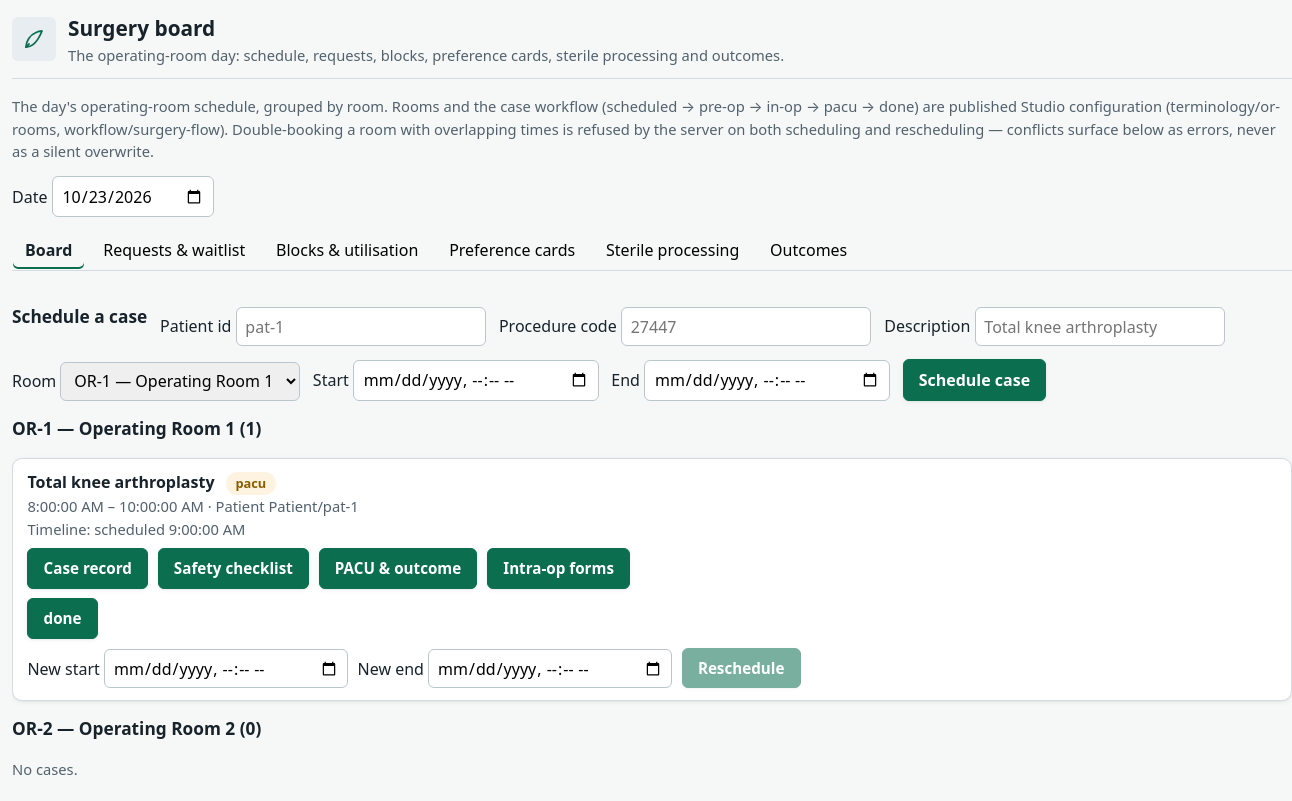
Scenario: SurgeryBoardPage — Phase 15 depth › surfaces the PACU gate 409 detail when the pacu → done transition is refused
The image size is (1292, 801).
Expected: the text "Total knee arthroplasty" is shown, [27, 471, 214, 493]
Click the button "done" at (63, 618), box [27, 598, 98, 639]
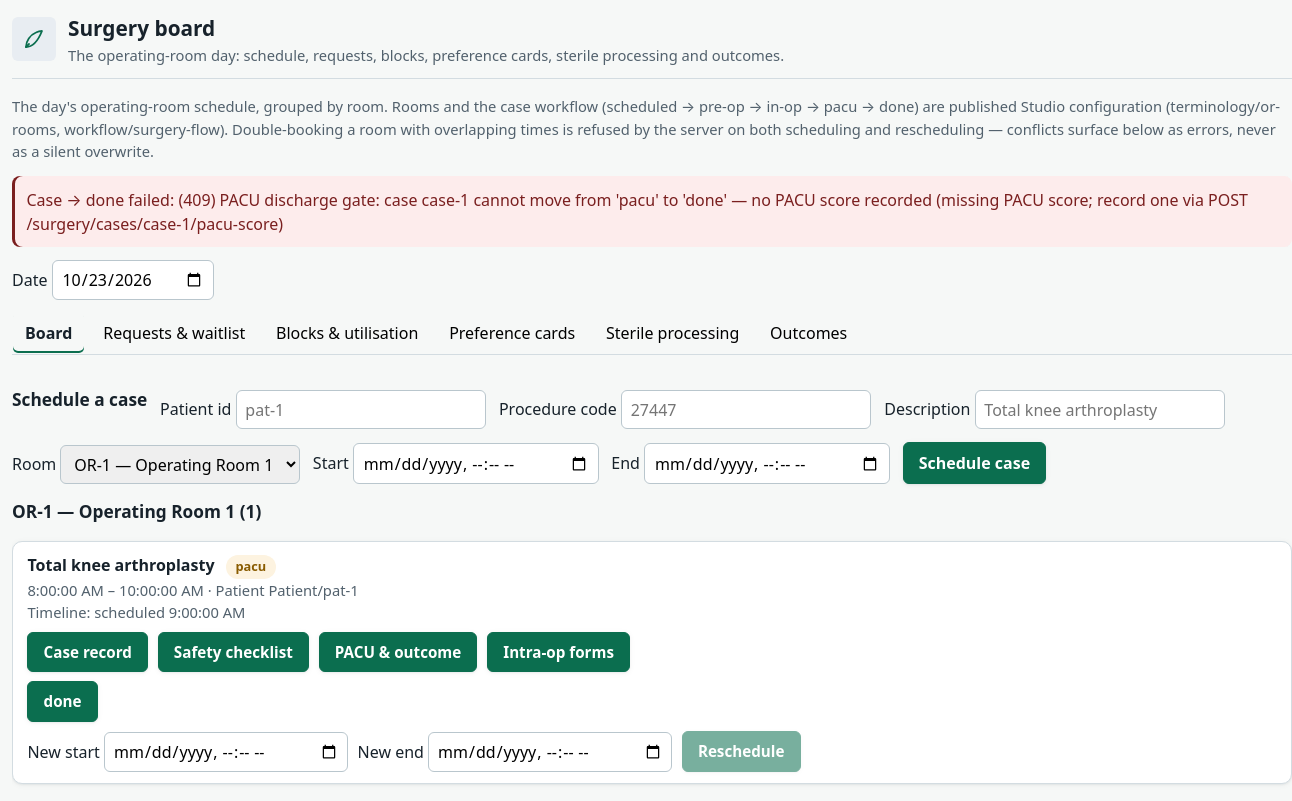
Expected: the text "missing PACU score" is shown, [26, 189, 1248, 235]
